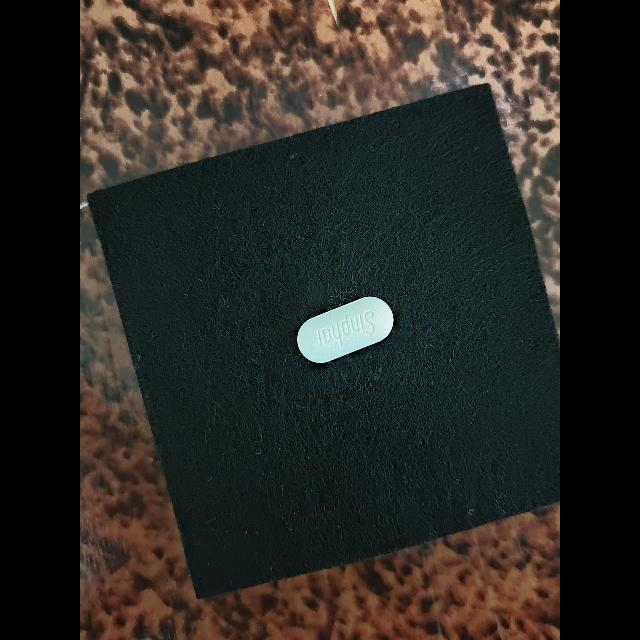Intact Pill: (297, 296, 394, 363)
